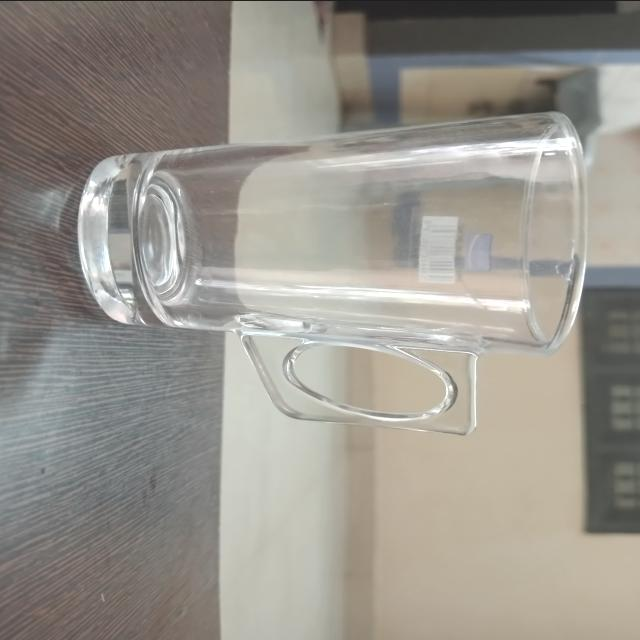glass-VX4N: (78, 111, 586, 437)
